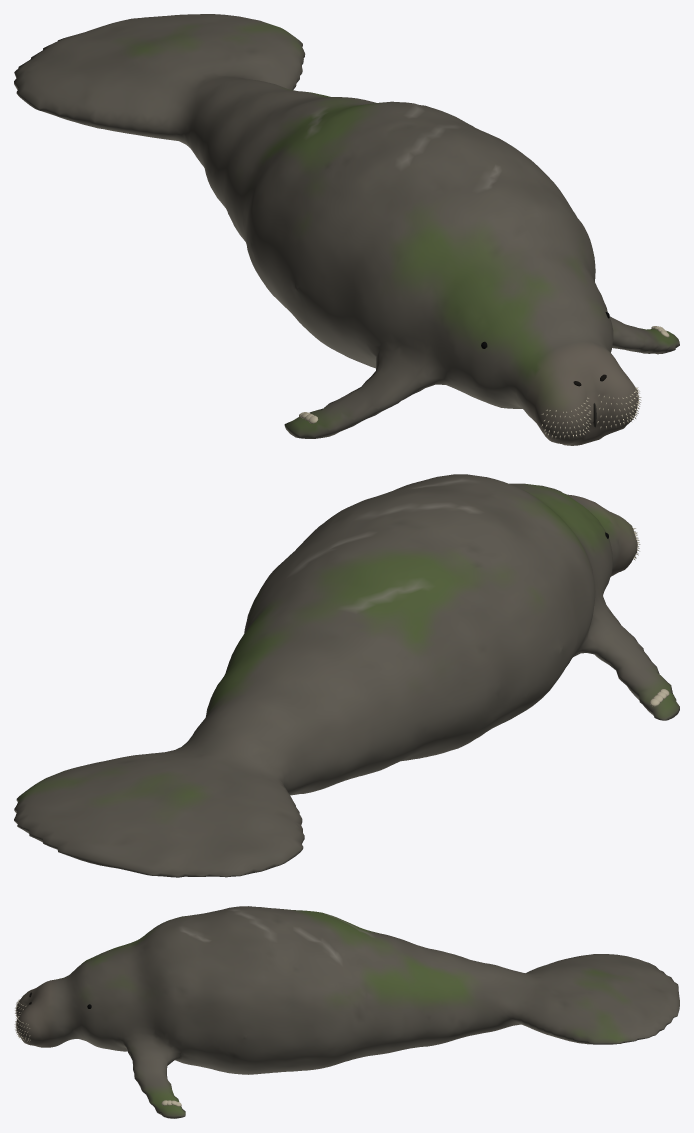
The model's file is AmericanManatee.fbx.
3 renders of one model, top to bottom at view 1: azimuth 30°, elevation 25°; view 2: azimuth 150°, elevation 25°; view 3: azimuth 270°, elevation 25°, orthographic. The views are drawn at different scales.
Visible parts, largest first — view 1: AmericanManatee; view 2: AmericanManatee; view 3: AmericanManatee.
Part boxes in pixels (x1,y1,x2,y2): AmericanManatee: (14,14,679,445); AmericanManatee: (14,474,679,877); AmericanManatee: (14,906,679,1118).
Size of the model in its own units: 0.9489 by 0.509 by 2.13.
